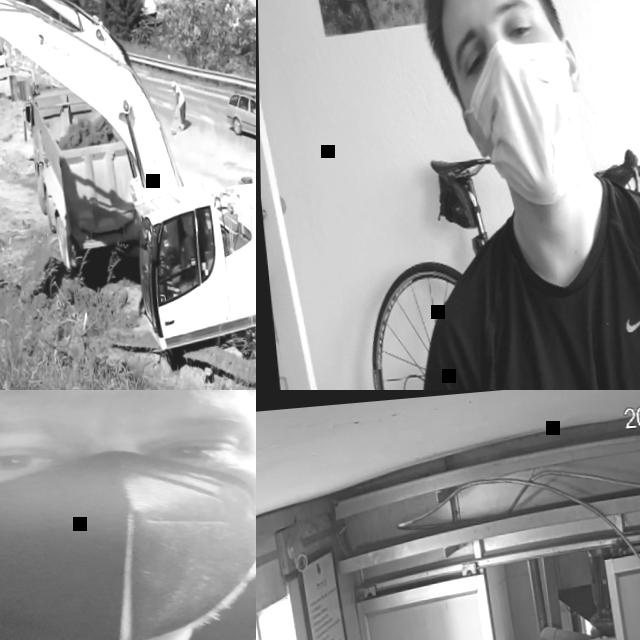Hardhat: (169, 81, 176, 87)
Mask: (0, 438, 256, 640), (455, 36, 589, 213)
NO-Hardhat: (417, 0, 531, 28)
NO-Safety Vest: (453, 189, 640, 390), (177, 241, 192, 263)
Person: (367, 0, 640, 390), (0, 390, 256, 640), (164, 227, 197, 284), (169, 78, 187, 130)
Safety Vest: (174, 84, 184, 108)
machinery: (0, 0, 256, 390), (18, 74, 141, 279)
vehicle: (222, 85, 256, 152)
